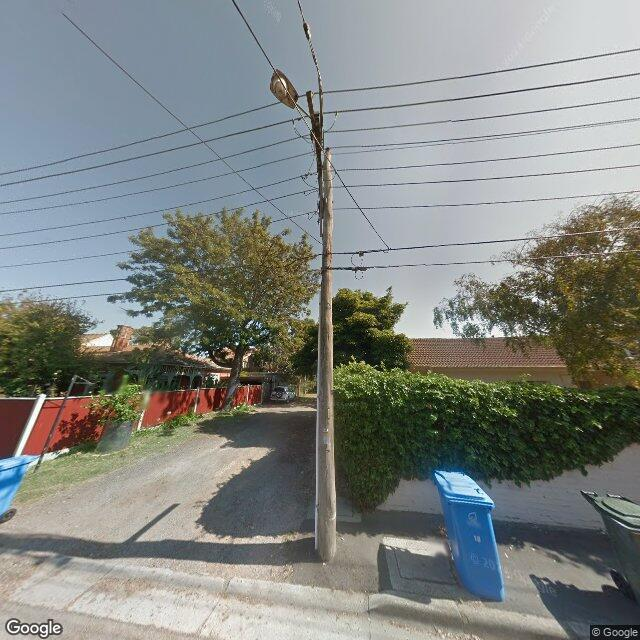crossarm: (307, 92, 325, 213)
streetlight: (270, 69, 314, 120)
timber-pole: (316, 147, 336, 562)
